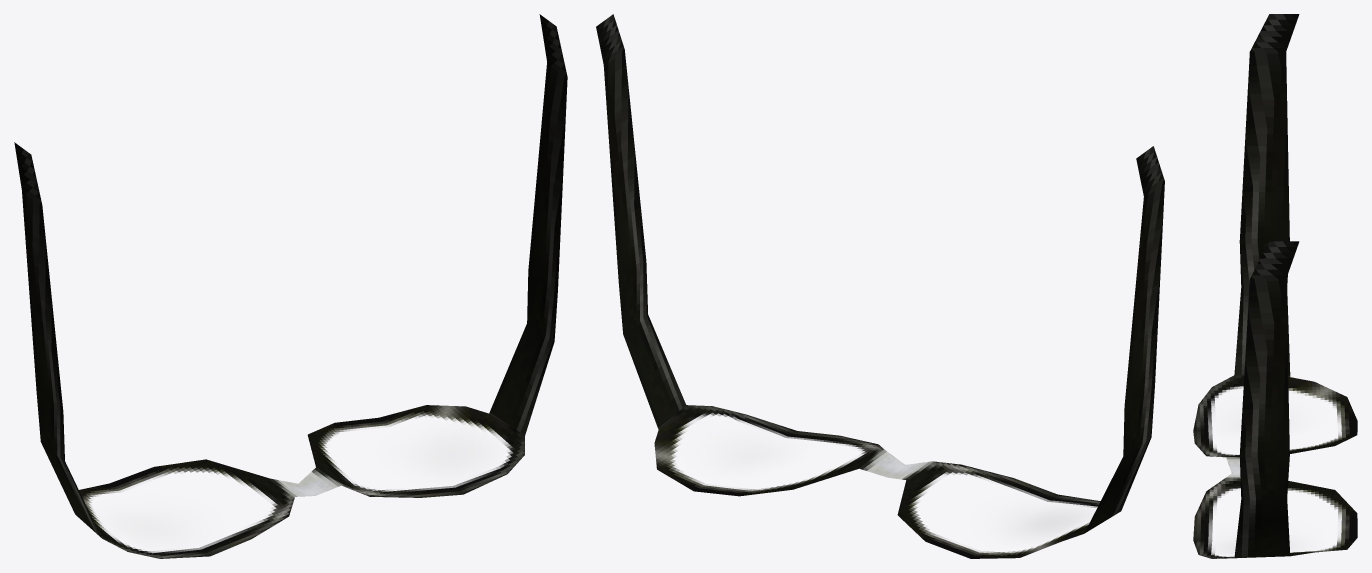
The model's file is tt_m_chr_avt_acc_msk_dorkGlasses.glb.
3 renders of one model, left to right at view 1: azimuth 30°, elevation 25°; view 2: azimuth 150°, elevation 25°; view 3: azimuth 270°, elevation 25°, orthographic. The views are drawn at different scales.
Parts seen in each view (by area): view 1: tt_m_chr_avt_acc_msk_dorkGlasses; view 2: tt_m_chr_avt_acc_msk_dorkGlasses; view 3: tt_m_chr_avt_acc_msk_dorkGlasses.
Boxes of the visible parts, <box> form: tt_m_chr_avt_acc_msk_dorkGlasses: <box>14,14,567,558</box>; tt_m_chr_avt_acc_msk_dorkGlasses: <box>596,14,1164,558</box>; tt_m_chr_avt_acc_msk_dorkGlasses: <box>1193,14,1357,558</box>.
Size of the model in its own units: 3.56 by 2.61 by 1.09.
1 material, 1 textured.
